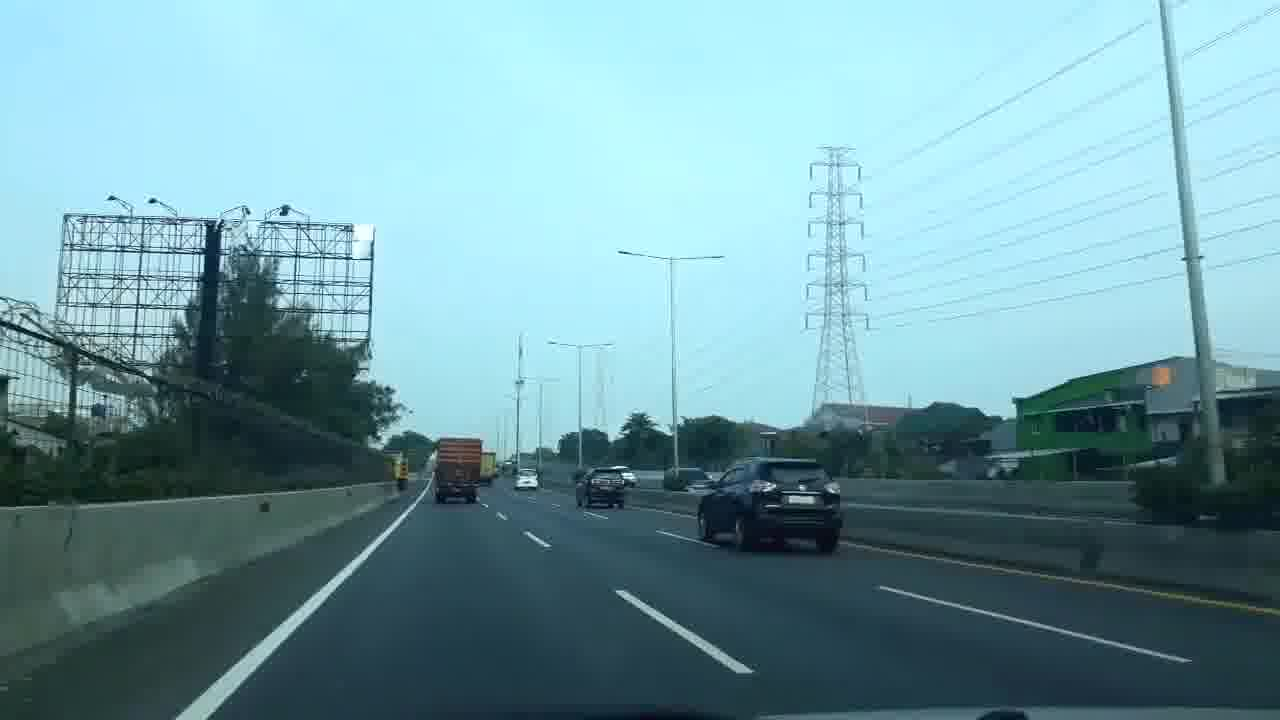plate_positive: (787, 495, 815, 504)
